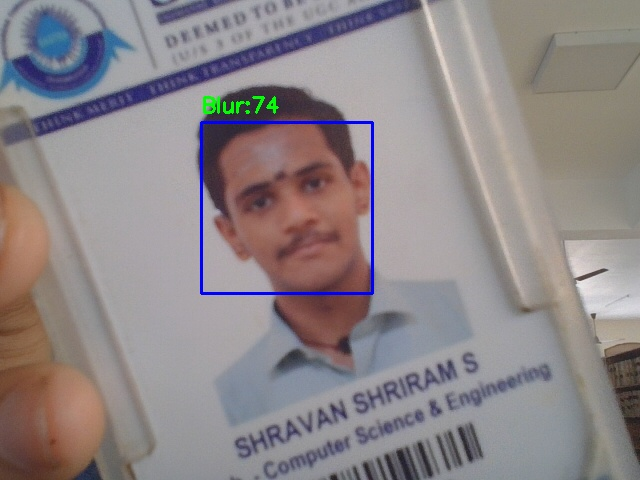fake: (201, 122, 372, 293)
